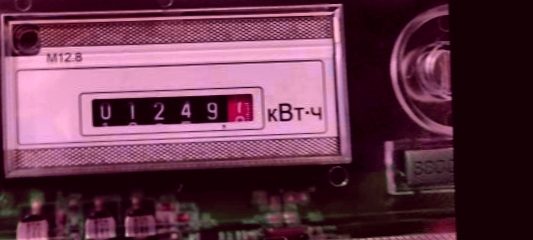0: (98, 97, 113, 118)
1: (125, 97, 138, 118)
2: (150, 97, 167, 119)
4: (179, 96, 193, 116)
7: (233, 91, 246, 111)
9: (205, 97, 219, 118)
screen: (75, 79, 268, 136)
